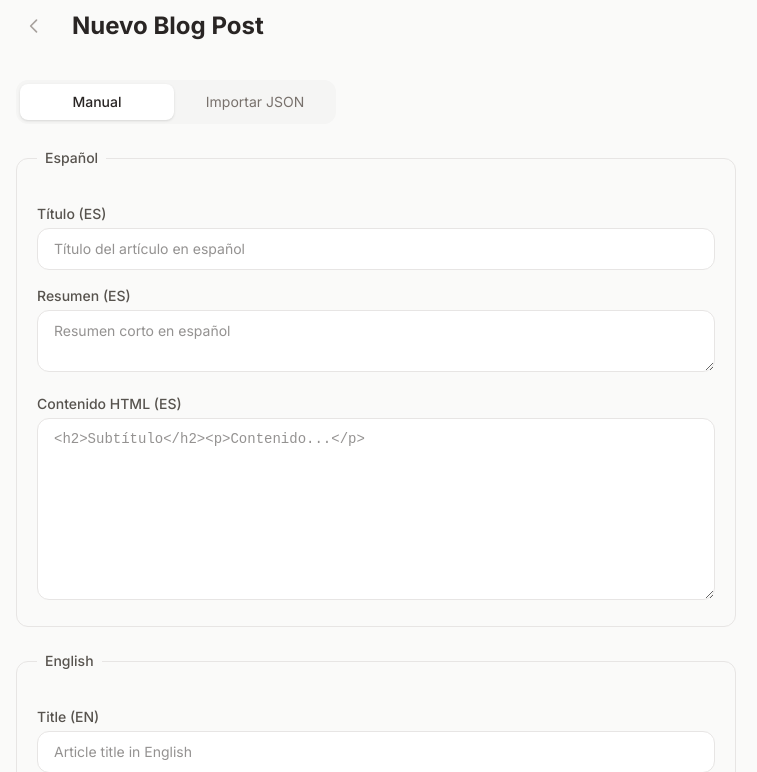
Test case: AdminBlogCreatePage › shows error when fetchJsonTemplate throws during download
Click the button "Importar JSON" at (255, 102), box x1=178 y1=84 x2=332 y2=120
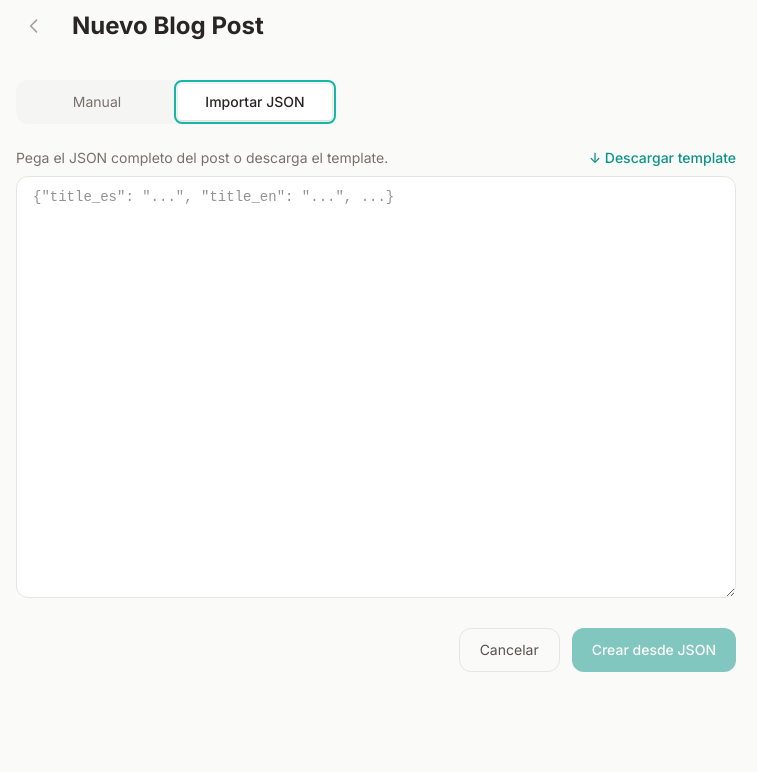
Click the button "↓ Descargar template" at (662, 158), box x1=589 y1=148 x2=736 y2=168
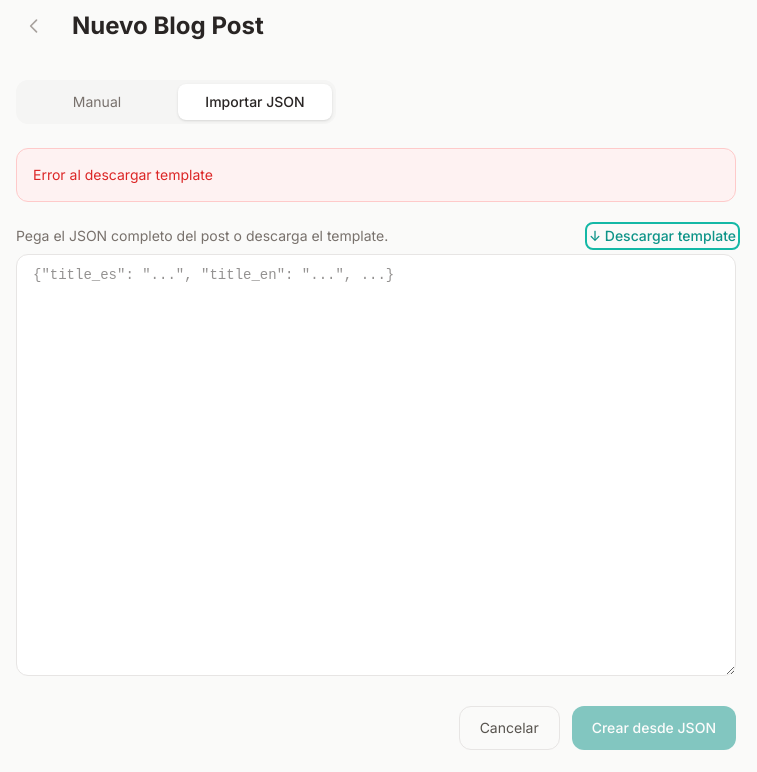
Check: the text "Error al descargar template" is shown, box x1=16 y1=148 x2=736 y2=202
